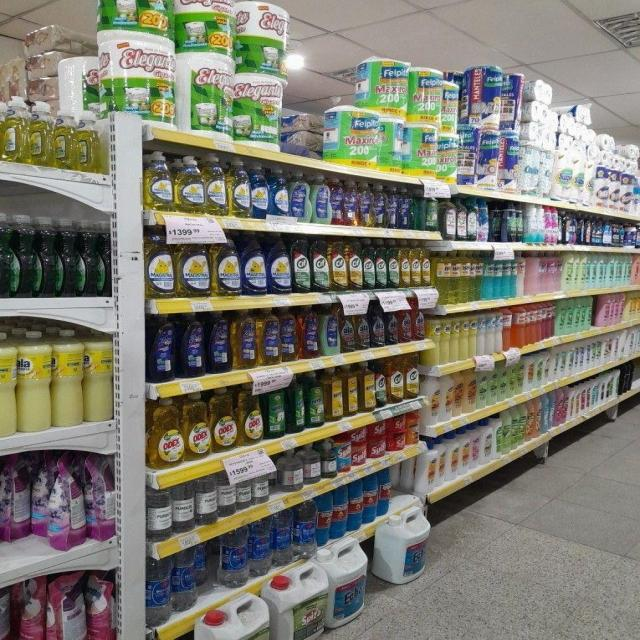ala_conc_amarillo: (354, 303, 370, 350), (340, 303, 354, 353)
ala_conc_azul: (370, 302, 384, 348), (386, 301, 397, 345)
ala_conc_rojo: (399, 302, 412, 342), (412, 305, 425, 341)
ala_crem_amarillo: (426, 312, 438, 355), (440, 316, 450, 364), (460, 316, 469, 359), (451, 316, 459, 362), (469, 315, 476, 358)
cif_conc_bot_amarilla: (331, 240, 347, 292), (388, 355, 403, 404), (348, 240, 362, 290), (405, 354, 419, 399), (400, 242, 410, 288), (410, 246, 420, 287)
cif_conc_botella_verde: (0, 211, 13, 299), (292, 238, 310, 293), (312, 239, 329, 292), (375, 240, 387, 289), (387, 242, 399, 288), (363, 240, 374, 290)
heroe: (287, 374, 306, 434), (266, 383, 286, 438), (307, 369, 325, 428)
magistral_con_amarillo: (176, 233, 210, 298), (145, 228, 175, 299), (211, 233, 240, 297), (144, 151, 174, 212), (175, 156, 204, 214), (227, 158, 250, 218), (205, 154, 227, 216), (2, 100, 22, 162)
magistral_con_azul: (241, 234, 267, 296), (268, 236, 291, 294), (270, 166, 290, 218), (251, 162, 268, 218)
odex: (211, 386, 237, 452), (238, 383, 264, 445)
zorro: (149, 313, 176, 382), (178, 311, 205, 377), (207, 310, 230, 374), (232, 308, 256, 369), (257, 306, 280, 365), (298, 304, 318, 359), (290, 170, 309, 222), (320, 303, 338, 356), (311, 173, 329, 224), (281, 306, 297, 362), (329, 177, 344, 226), (358, 181, 372, 227), (344, 179, 357, 226)
